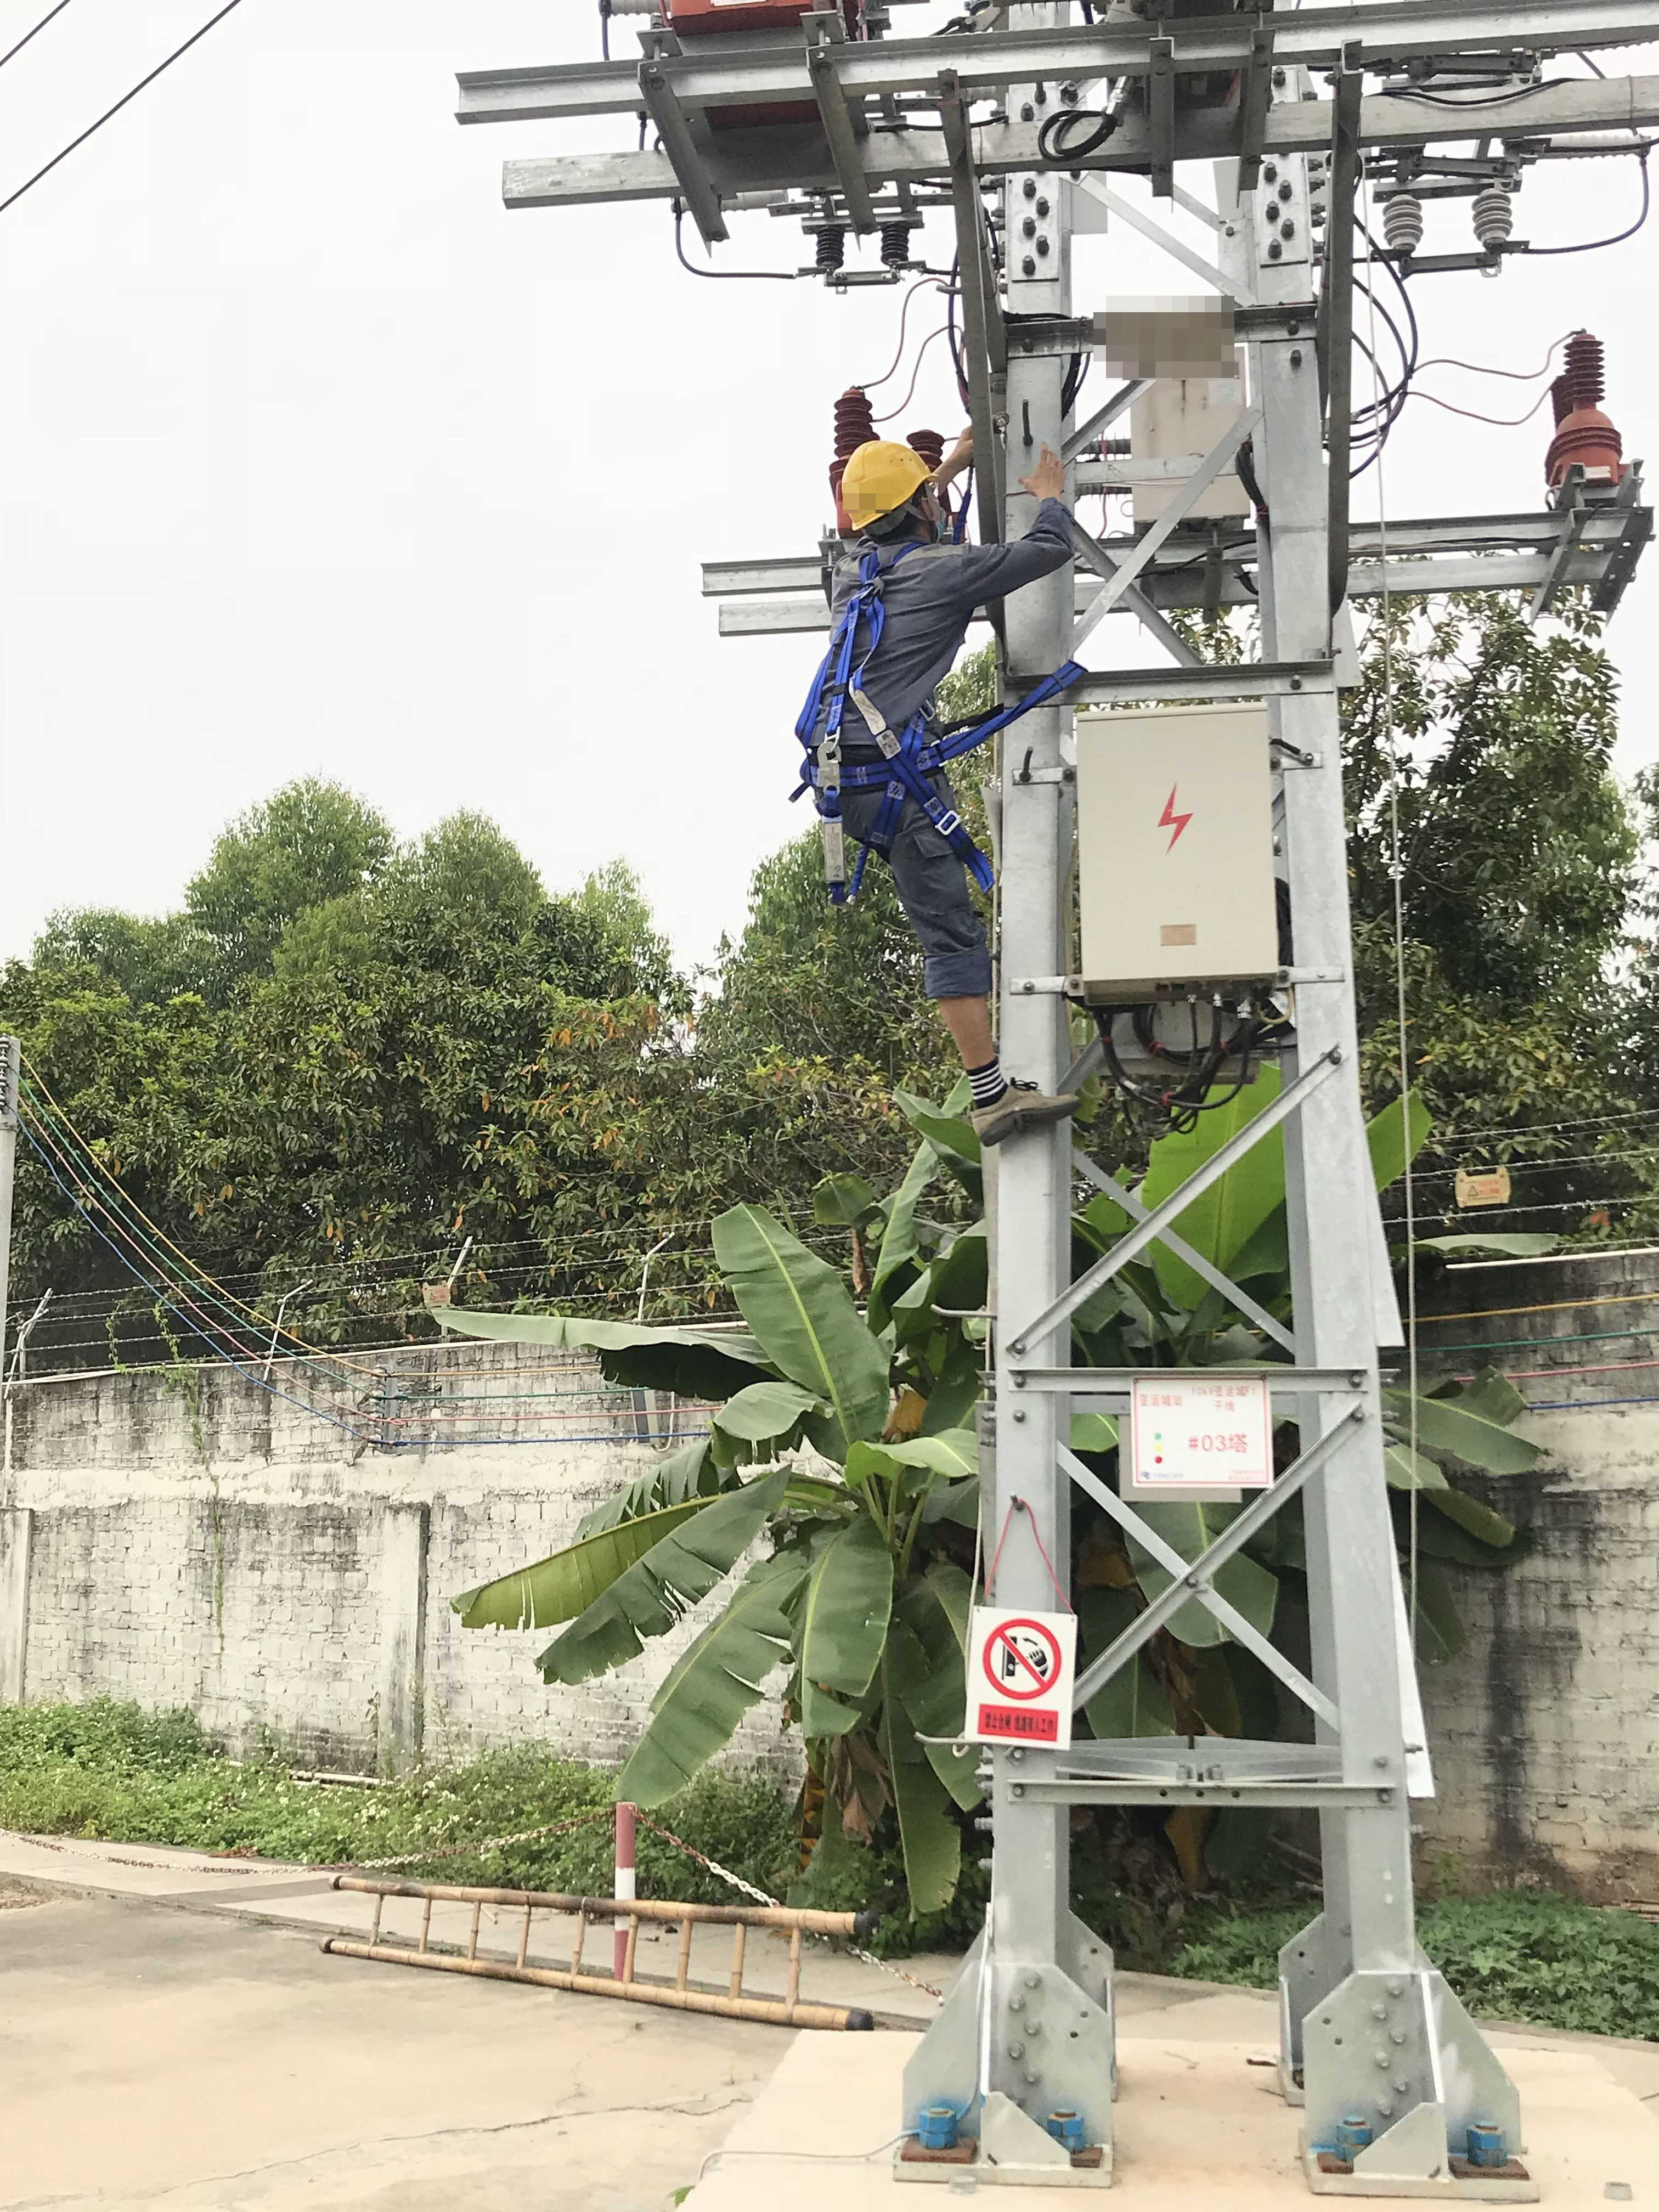downsuit: (836, 773, 1002, 1005)
upsuit: (810, 521, 1082, 759)
wrongbottom: (925, 951, 1006, 1089)
